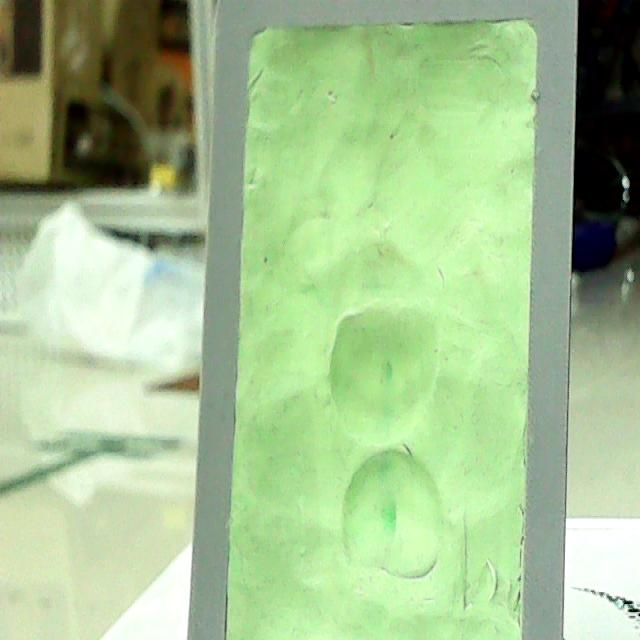block: (173, 0, 581, 639)
